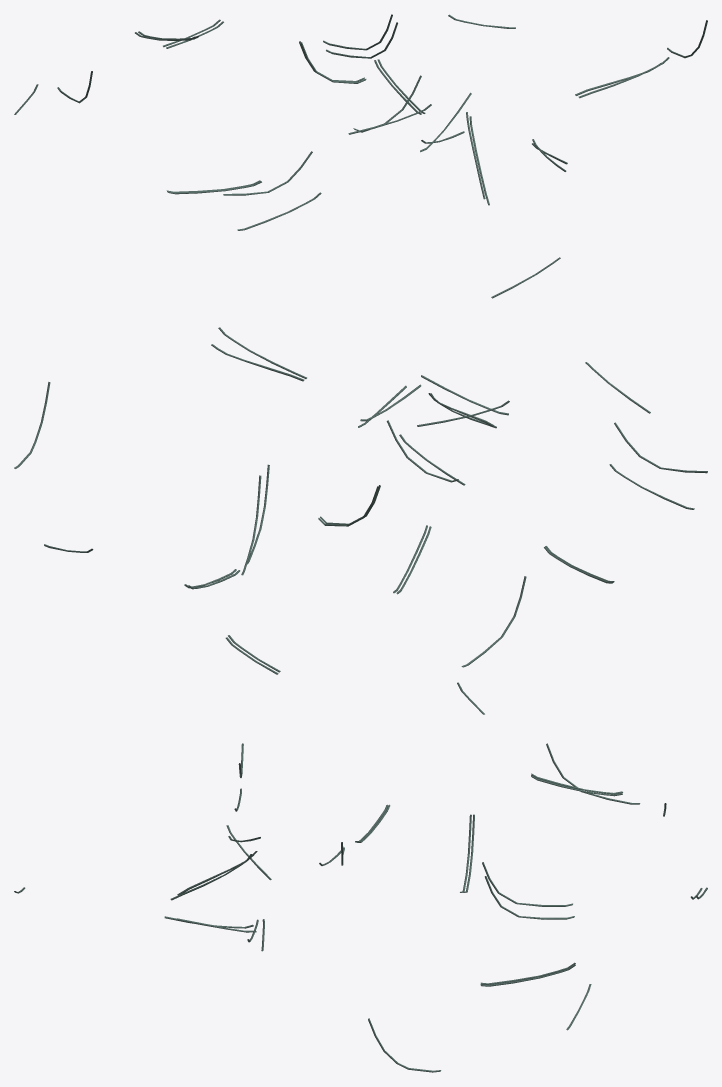
Rendered from Wires.fbx.
The picture shows the model from 3 angles, top to bottom: view 1: azimuth 30°, elevation 25°; view 2: azimuth 150°, elevation 25°; view 3: azimuth 270°, elevation 25°; orthographic projection. The views are drawn at different scales.
Size of the model in its own units: 44.92 by 9.17 by 48.51.
